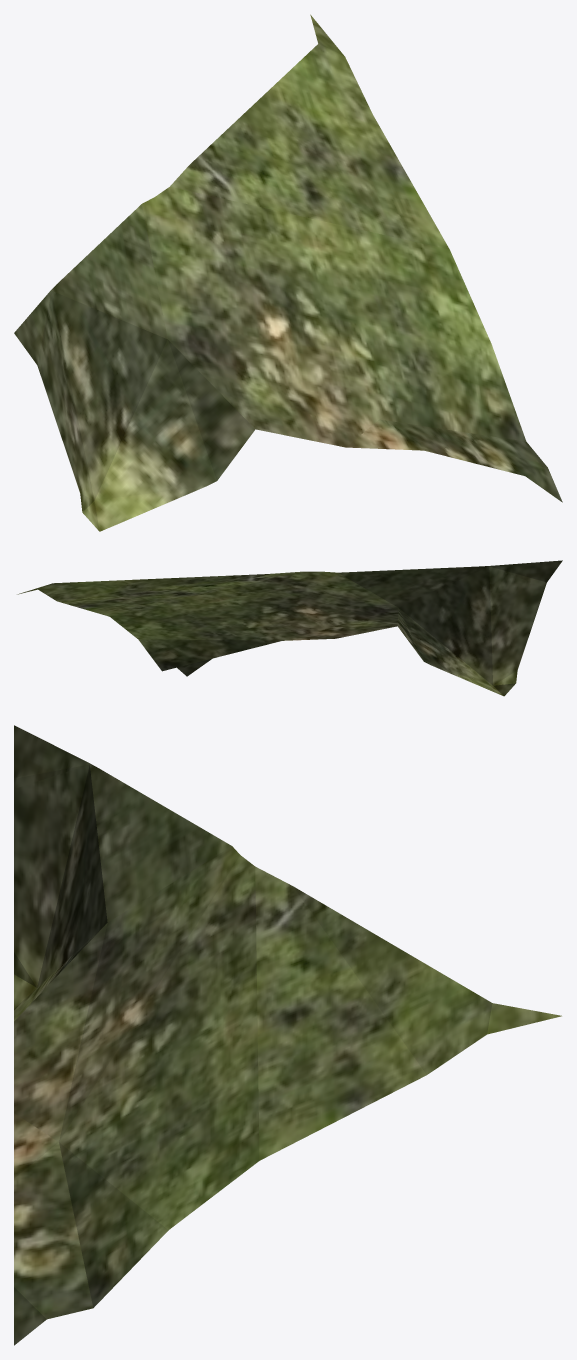
3 views of the same model, one above another, from view 1: azimuth 30°, elevation 25°; view 2: azimuth 150°, elevation 25°; view 3: azimuth 270°, elevation 25° (orthographic). The views are drawn at different scales.
Size of the model in its own units: 2.81 by 1.49 by 2.24.
1 material, 1 textured.
